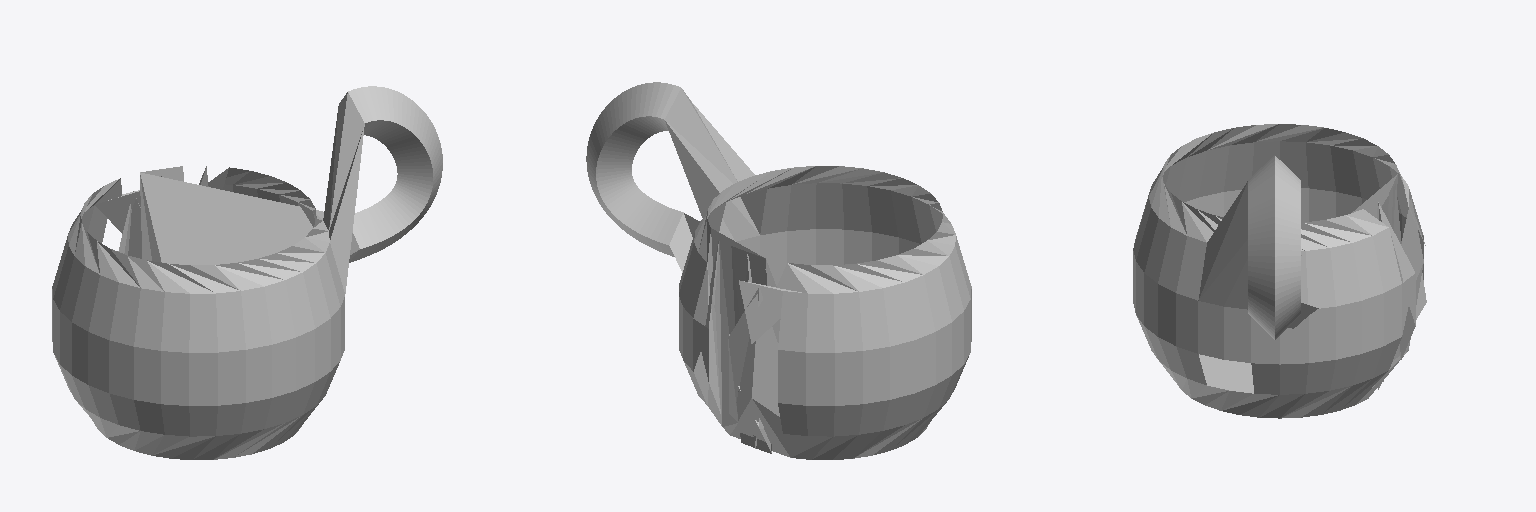
The model's file is cup4.obj.
3 renders of one model, left to right at view 1: azimuth 30°, elevation 25°; view 2: azimuth 150°, elevation 25°; view 3: azimuth 270°, elevation 25°, orthographic.
Parts seen in each view (by area): view 1: Cylinder; view 2: Cylinder; view 3: Cylinder.
Part boxes in pixels (x1,y1,x2,y2): Cylinder: (52, 86, 442, 459); Cylinder: (586, 82, 971, 459); Cylinder: (1133, 124, 1426, 418).
Size of the model in its own units: 3.24 by 2.45 by 2.24.